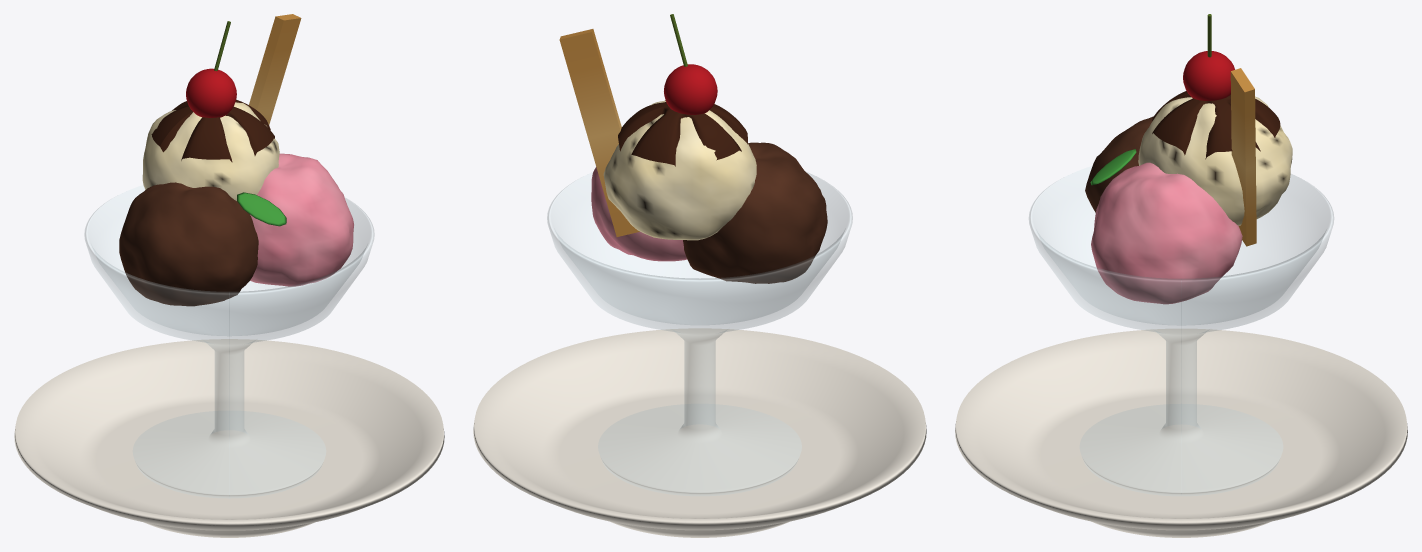
The model's file is taca-de-gelado.glb.
The picture shows the model from 3 angles, left to right: view 1: azimuth 30°, elevation 25°; view 2: azimuth 150°, elevation 25°; view 3: azimuth 270°, elevation 25°; orthographic projection. The views are drawn at different scales.
Parts seen in each view (by area): view 1: taca-de-gelado; view 2: taca-de-gelado; view 3: taca-de-gelado.
Boxes of the visible parts, x1,y1,x2,y2 form: taca-de-gelado: (14,14,444,537); taca-de-gelado: (473,14,926,537); taca-de-gelado: (955,14,1407,537).
Bounding box in the file's own units: 0.16 × 0.1861 × 0.16.
